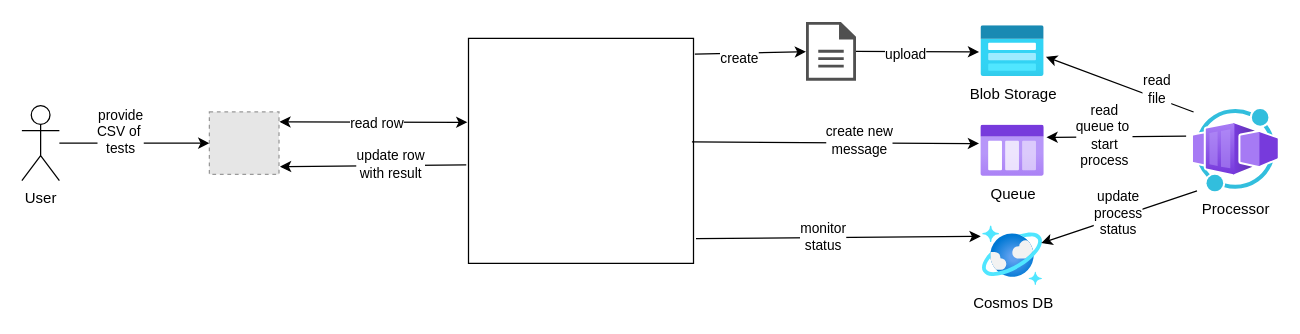
Some shapes in this 1300 by 334 pixel diagram are drawn without their labels. Grey dashed boxes stand in for pictures. Here are the shapes that lost their labels. From the top down, the centre of each, then its label:
At pixel 830 50: "YAML file".
At pixel 580 150: "RAI Testing Process Loop through CSV to run tests in batch".
